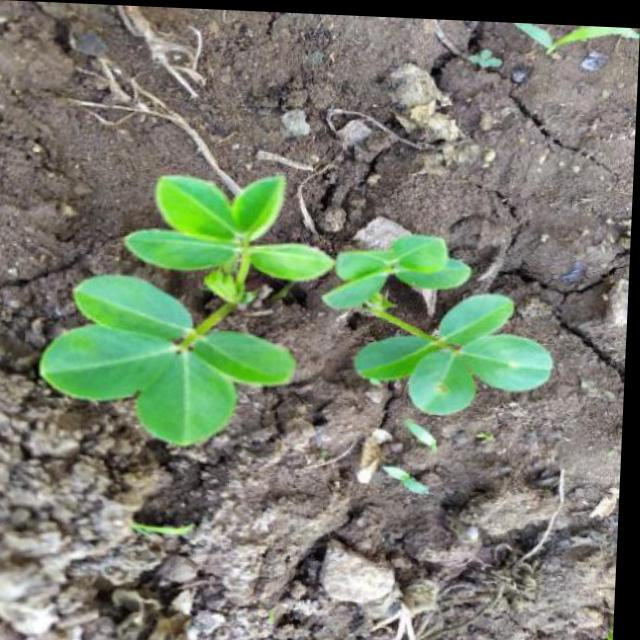weed: (55, 161, 568, 475)
